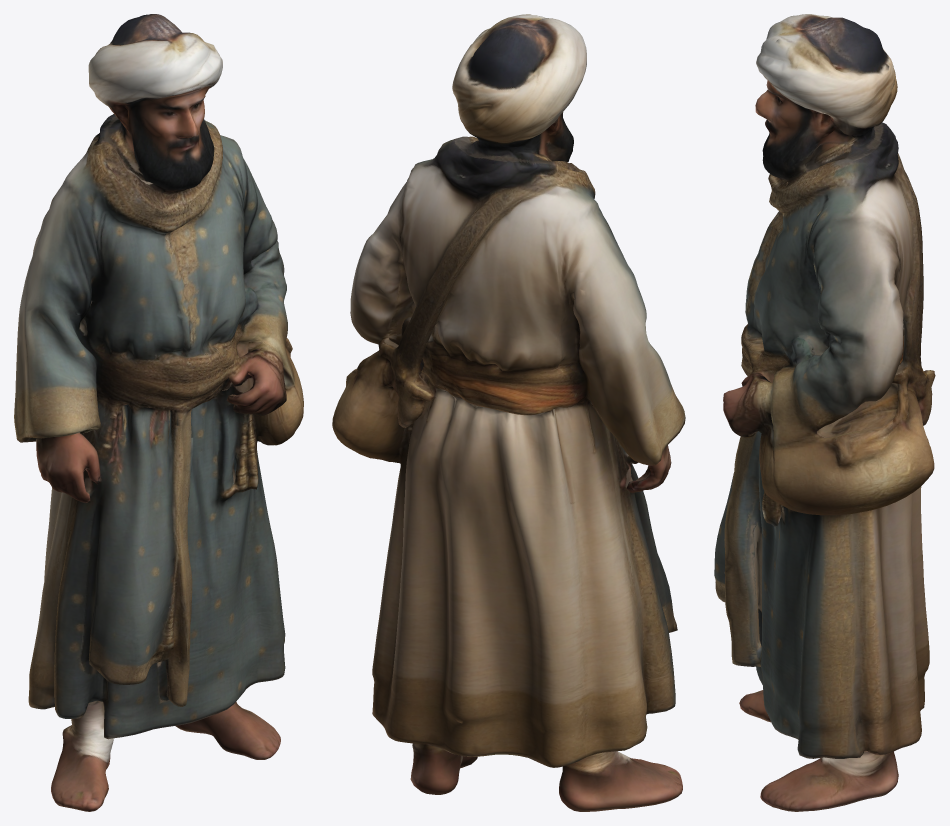
File: parameswara_chronicles_arab_trader.glb
3 views of the same model, side by side, from view 1: azimuth 30°, elevation 25°; view 2: azimuth 150°, elevation 25°; view 3: azimuth 270°, elevation 25° (orthographic). The views are drawn at different scales.
Parts seen in each view (by area): view 1: Object_4; view 2: Object_4; view 3: Object_4.
Part boxes in pixels (x1,y1,x2,y2): Object_4: (14,14,303,811); Object_4: (332,14,685,811); Object_4: (714,14,935,811).
Size of the model in its own units: 0.8099 by 2 by 0.5387.
1 material, 1 textured.
